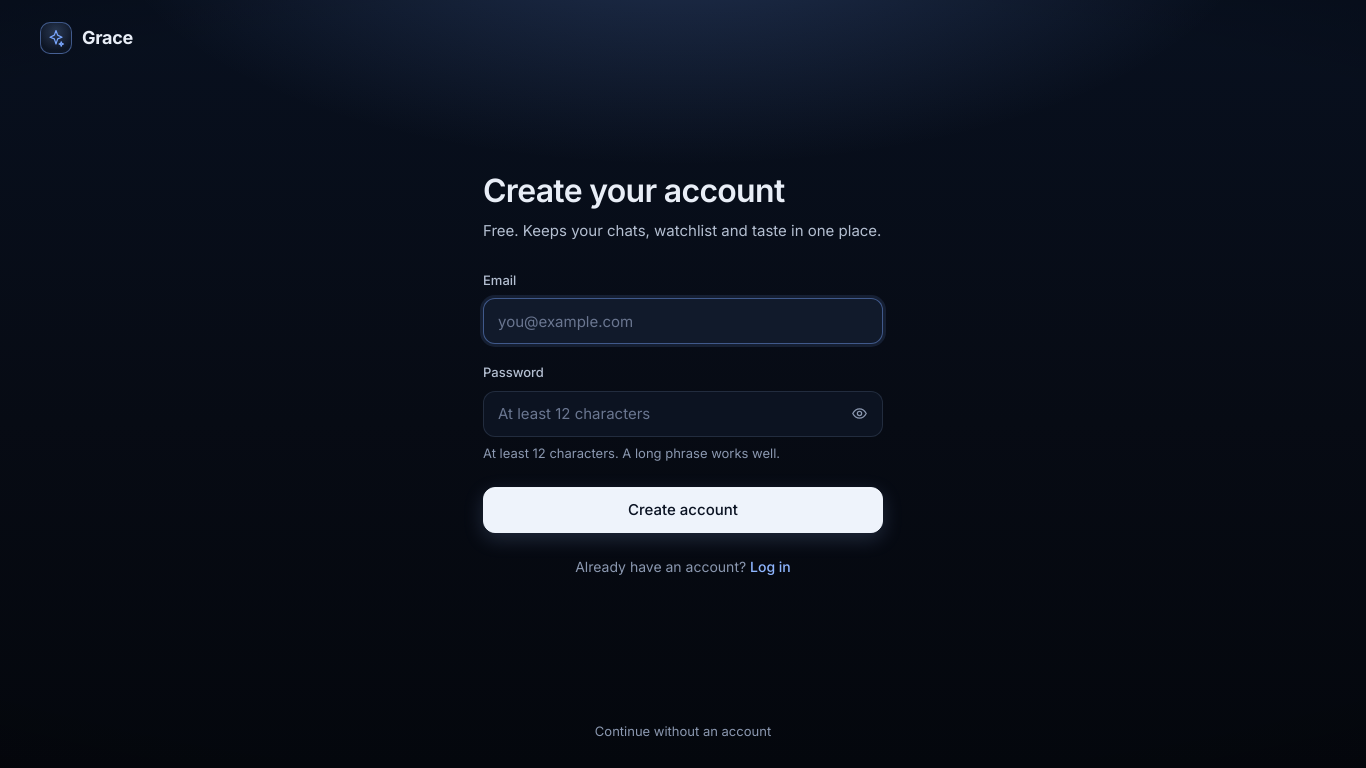
Test: AuthForm › registers and moves to a verification step that names the email
Type "person@example.com" into the field labelled "Email" at (683, 321), box [483,298,883,344]
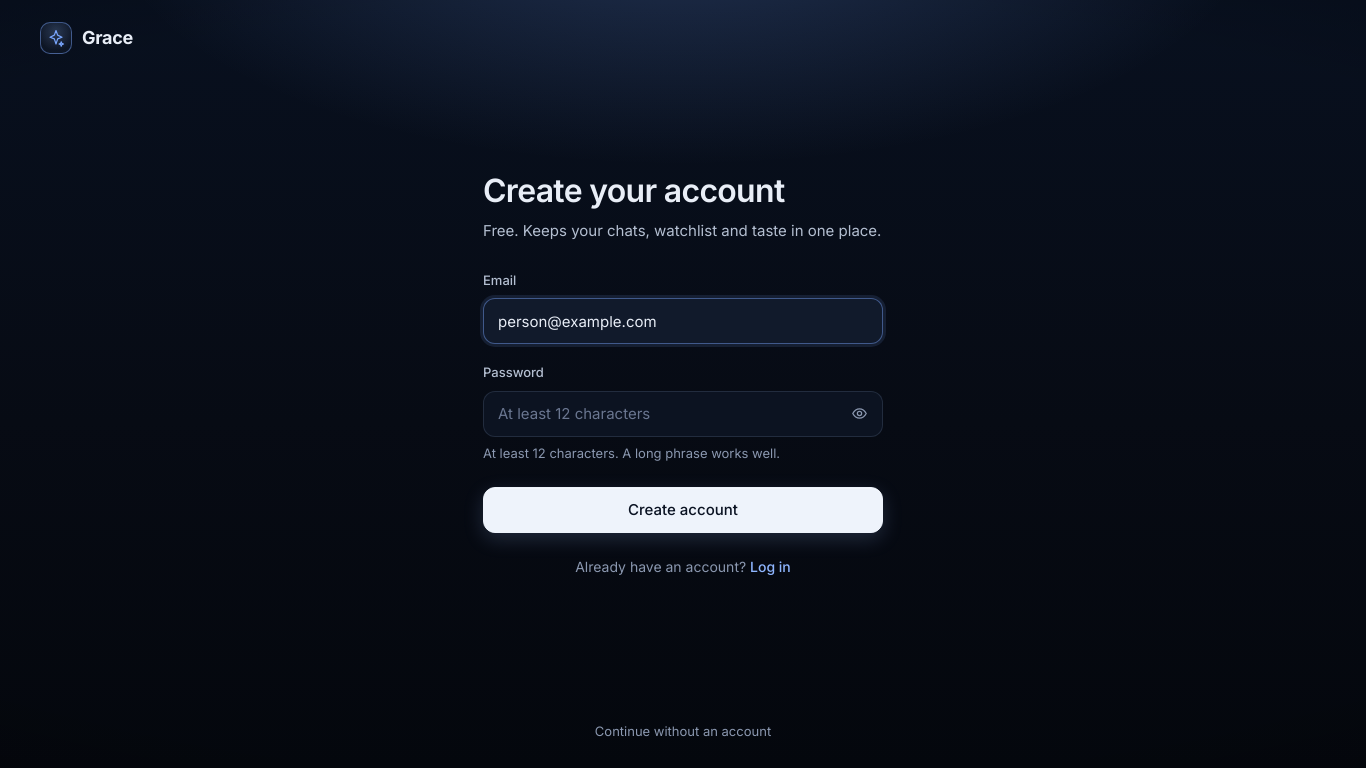
Type "a-long-enough-passphrase" into the password field labelled "Password" at (683, 414), box [483,391,883,437]
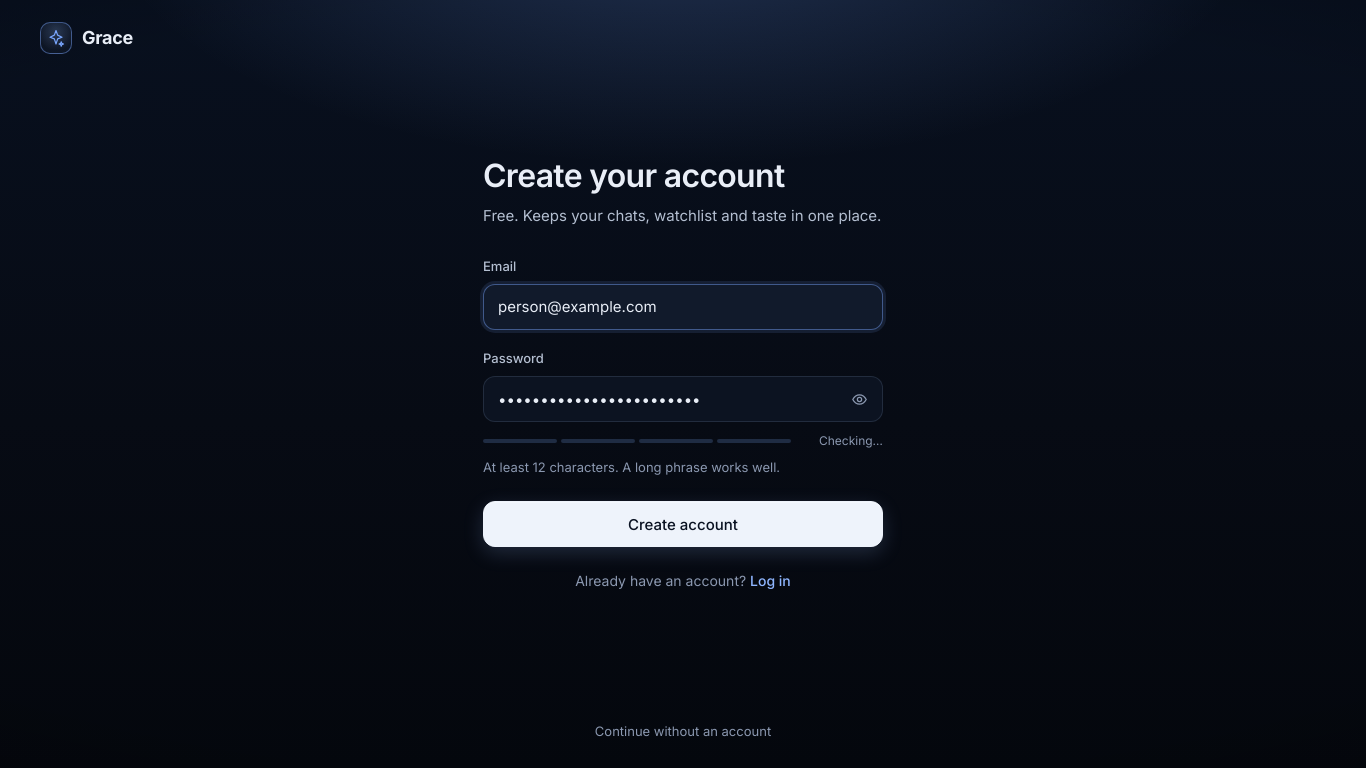
Click the button "Create account" at (683, 524), box [483,501,883,547]
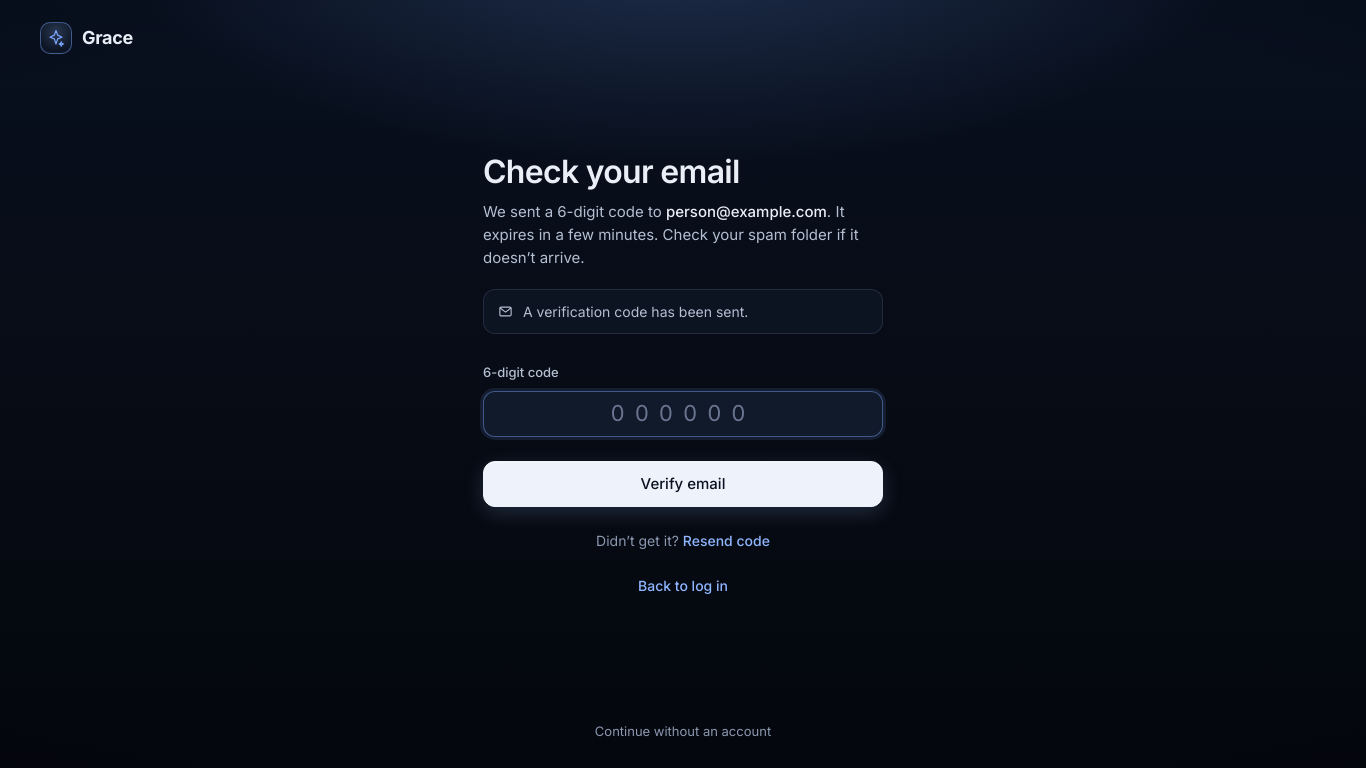
Expected: the heading "Check your email" is shown, [483,152,740,191]
Expected: the text "person@example.com" is shown, [666,202,827,220]
Expected: the text "A verification code has been sent." is shown, [483,289,883,334]
